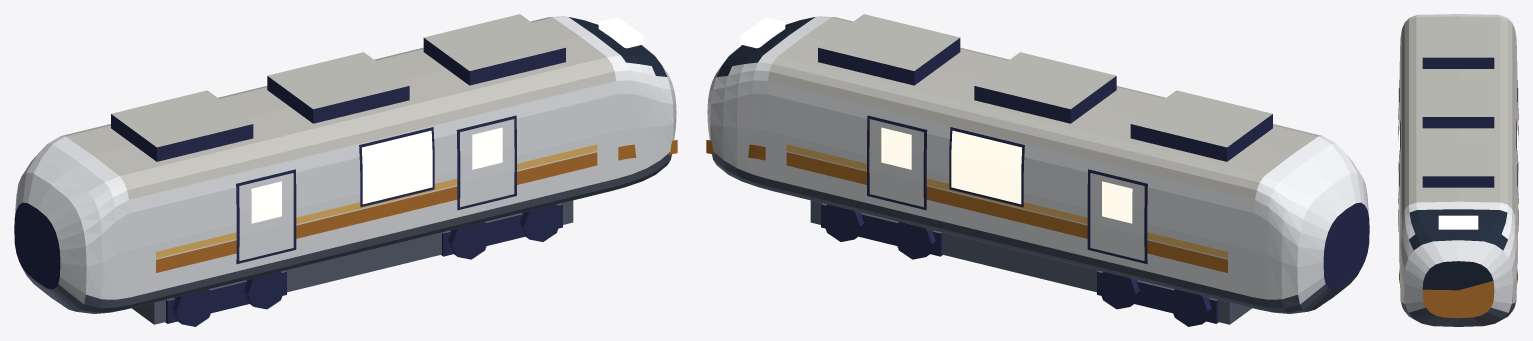
File: mrt-wenhu.glb
3 renders of one model, left to right at view 1: azimuth 30°, elevation 25°; view 2: azimuth 150°, elevation 25°; view 3: azimuth 270°, elevation 25°, orthographic. The views are drawn at different scales.
Visible parts, largest first — view 1: mrt-wenhu_root; view 2: mrt-wenhu_root; view 3: mrt-wenhu_root.
Boxes of the visible parts, x1=… form: mrt-wenhu_root: x1=14, y1=14, x2=677, y2=326; mrt-wenhu_root: x1=706, y1=14, x2=1369, y2=326; mrt-wenhu_root: x1=1398, y1=14, x2=1518, y2=326.
Bounding box in the file's own units: 13.4 × 3.72 × 2.92.
2 materials, 2 textured.
